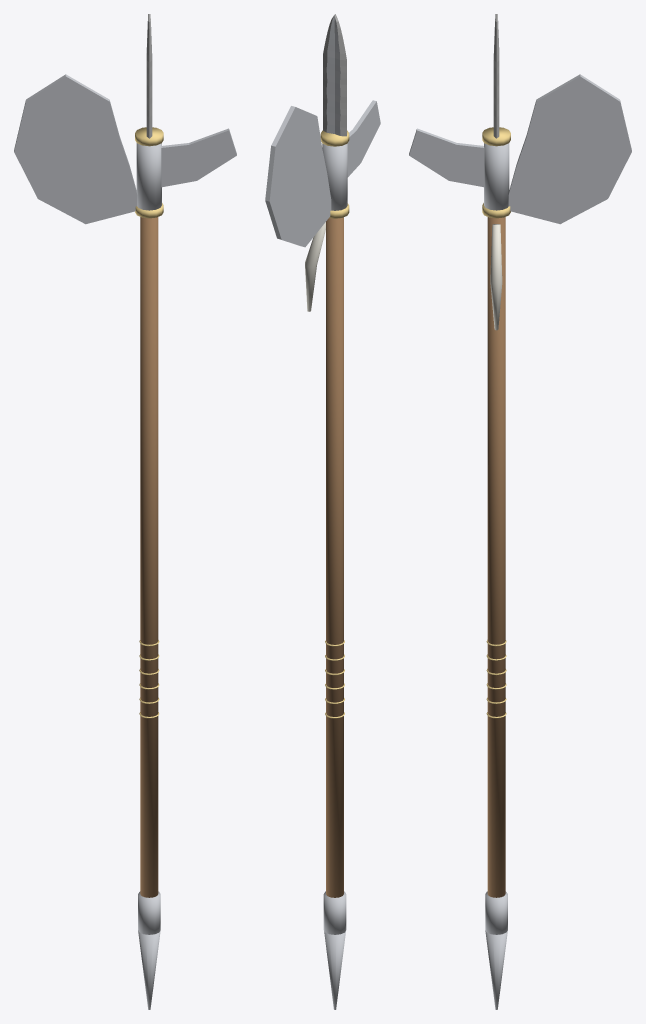
The model's file is vanderberg_hellebarde.glb.
3 renders of one model, left to right at view 1: azimuth 90°, elevation 25°; view 2: azimuth 150°, elevation 25°; view 3: azimuth 270°, elevation 25°, orthographic.
Parts seen in each view (by area): view 1: G_vanderberg_hellebarde; view 2: G_vanderberg_hellebarde; view 3: G_vanderberg_hellebarde.
Part boxes in pixels (x1,y1,x2,y2): G_vanderberg_hellebarde: [14, 14, 236, 1009]; G_vanderberg_hellebarde: [265, 14, 380, 1009]; G_vanderberg_hellebarde: [409, 14, 631, 1009].
Size of the model in its own units: 0.1214 by 2.76 by 0.56.
